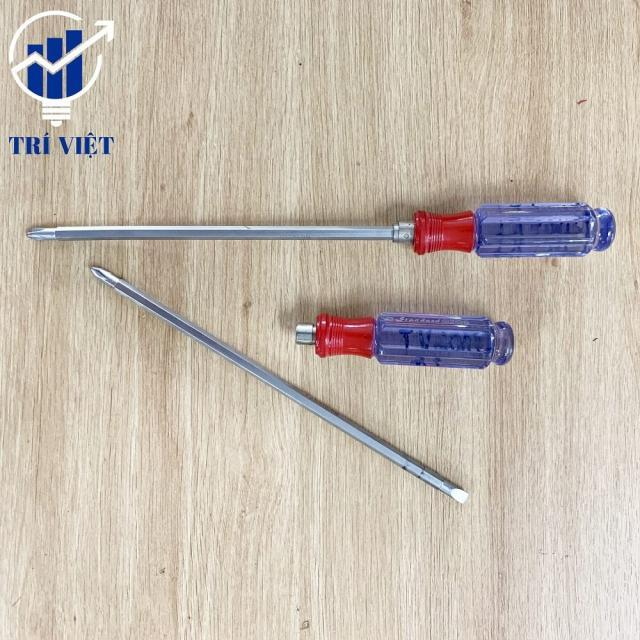screwdriver: (21, 200, 622, 260)
